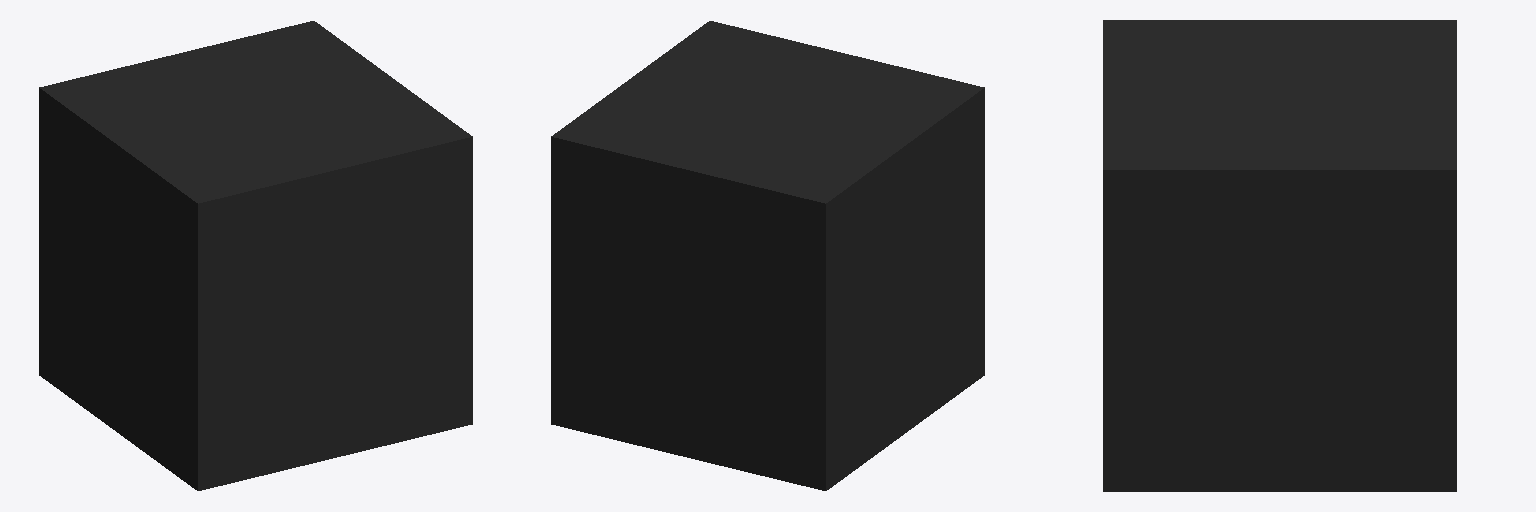
robot.urdf — robotis_manipulator_h:
<?xml version="1.0" ?>
<!-- =================================================================================== -->
<!-- |    This document was autogenerated by xacro from manipulator_h.xacro            | -->
<!-- |    EDITING THIS FILE BY HAND IS NOT RECOMMENDED                                 | -->
<!-- =================================================================================== -->
<!-- Revolute-Revolute Manipulator -->
<robot name="robotis_manipulator_h" xmlns:xacro="http://www.ros.org/wiki/xacro">
  <!-- ros_control plugin -->
  <gazebo>
    <plugin filename="libgazebo_ros_control.so" name="gazebo_ros_control">
      <robotNamespace>/robotis_manipulator_h</robotNamespace>
      <robotSimType>gazebo_ros_control/DefaultRobotHWSim</robotSimType>
    </plugin>
  </gazebo>
  <!-- World -->
  <gazebo reference="world">
  </gazebo>
  <!-- Link1 -->
  <gazebo reference="link1">
    <mu1>0.2</mu1>
    <mu2>0.2</mu2>
    <material>Gazebo/Grey</material>
  </gazebo>
  <!-- Link2 -->
  <gazebo reference="link2">
    <mu1>0.2</mu1>
    <mu2>0.2</mu2>
    <material>Gazebo/Grey</material>
  </gazebo>
  <!-- Link3 -->
  <gazebo reference="link3">
    <mu1>0.2</mu1>
    <mu2>0.2</mu2>
    <material>Gazebo/Grey</material>
  </gazebo>
  <!-- Link4 -->
  <gazebo reference="link4">
    <mu1>0.2</mu1>
    <mu2>0.2</mu2>
    <material>Gazebo/Grey</material>
  </gazebo>
  <!-- Link5 -->
  <gazebo reference="link5">
    <mu1>0.2</mu1>
    <mu2>0.2</mu2>
    <material>Gazebo/Grey</material>
  </gazebo>
  <!-- link_end -->
  <gazebo reference="link_end">
    <mu1>0.2</mu1>
    <mu2>0.2</mu2>
    <material>Gazebo/Grey</material>
  </gazebo>
  <!-- ros_control plugin deleted stuff from here but on top should be the same -->
  <material name="black">
    <color rgba="0.0 0.0 0.0 1.0"/>
  </material>
  <material name="blue">
    <color rgba="0.0 0.0 0.8 1.0"/>
  </material>
  <material name="green">
    <color rgba="0.0 0.8 0.0 1.0"/>
  </material>
  <material name="grey">
    <color rgba="0.2 0.2 0.2 1.0"/>
  </material>
  <material name="orange">
    <color rgba="1.0 0.423529411765 0.0392156862745 1.0"/>
  </material>
  <material name="brown">
    <color rgba="0.870588235294 0.811764705882 0.764705882353 1.0"/>
  </material>
  <material name="red">
    <color rgba="0.8 0.0 0.0 1.0"/>
  </material>
  <material name="white">
    <color rgba="1.0 1.0 1.0 1.0"/>
  </material>
  <!-- Used for fixing robot to Gazebo 'link 1' -->
  <link name="world">
  </link>
  <joint name="world_fixed" type="fixed">
    <origin rpy="0 0 0" xyz="0 0 0"/>
    <parent link="world"/>
    <child link="link_1"/>
  </joint>
  <!-- link 1 -->
  <link name="link_1">
    <collision>
      <origin rpy="0 0 0" xyz="0 0 0"/>
      <geometry>
        <mesh filename="package://manipulator_h_description/meshes/link_1.stl"/>
        <!--scale="0.001 0.001 0.001"/> -->
      </geometry>
    </collision>
    <visual>
      <origin rpy="0 0 0" xyz="0 0 0"/>
      <geometry>
        <mesh filename="package://manipulator_h_description/meshes/link_1.stl"/>
        <!--scale="0.001 0.001 0.001"/> -->
      </geometry>
      <material name="grey"/>
    </visual>
    <inertial>
      <origin rpy="0 0 0" xyz="-6.38743521995389E-06 -4.43861822296832E-11 0.0608318718478432"/>
      <mass value="0.855"/>
      <inertia ixx="1273676.57e-9" ixy="0" ixz="0" iyy="1272091.46e-9" iyz="173.33e-9" izz="375253.31e-9"/>
    </inertial>
  </link>
  <!-- Joint 1 -->
  <joint name="joint1" type="revolute">
    <parent link="link_1"/>
    <child link="link_2"/>
    <origin rpy="0 0 0" xyz="0.0 0.0 0.12"/>
    <axis xyz="0 0 1"/>
    <limit effort="1000" lower="-3.14" upper="3.14" velocity="6.5"/>
    <dynamics damping="1"/>
  </joint>
  <transmission name="tran1">
    <type>transmission_interface/SimpleTransmission</type>
    <joint name="joint1">
      <hardwareInterface>EffortJointInterface</hardwareInterface>
    </joint>
    <actuator name="motor1">
      <hardwareInterface>EffortJointInterface</hardwareInterface>
      <mechanicalReduction>1</mechanicalReduction>
    </actuator>
  </transmission>
  <!-- link 2 -->
  <link name="link_2">
    <collision>
      <origin rpy="0 0 0" xyz="0 0 0"/>
      <geometry>
        <mesh filename="package://manipulator_h_description/meshes/link_2.stl"/>
        <!--scale="0.001 0.001 0.001"/> -->
      </geometry>
    </collision>
    <visual>
      <origin rpy="0 0 0" xyz="0 0 0"/>
      <geometry>
        <mesh filename="package://manipulator_h_description/meshes/link_2.stl"/>
        <!--scale="0.001 0.001 0.001"/> -->
      </geometry>
      <material name="grey"/>
    </visual>
    <inertial>
      <origin rpy="0 0 0" xyz="-4.14934198111894E-11 -0.000325967598113923 0.0321402876424691"/>
      <!--<origin xyz="0.00000 -0.06820 -0.00117" rpy="0 0 0"/>-->
      <mass value="0.934"/>
      <inertia ixx="1537602.80e-9" ixy="-0.03e-9" ixz="0" iyy="1525990.95e-9" iyz="-36.60e-9" izz="445727.51e-9"/>
      <!--<inertia ixx="0.00152547" ixy="0.0" ixz="0.0" iyy="0.00045954" iyz="-0.00001086" izz="0.00151740" />-->
    </inertial>
  </link>
  <!-- Joint 2 -->
  <joint name="joint2" type="revolute">
    <parent link="link_2"/>
    <child link="link_3"/>
    <origin rpy="0 0 0" xyz="0.0 0 0.01"/>
    <axis xyz="0 1 0"/>
    <limit effort="1000" lower="-3.14" upper="3.14" velocity="6.5"/>
    <dynamics damping="1"/>
  </joint>
  <transmission name="tran2">
    <type>transmission_interface/SimpleTransmission</type>
    <joint name="joint2">
      <hardwareInterface>EffortJointInterface</hardwareInterface>
    </joint>
    <actuator name="motor2">
      <hardwareInterface>EffortJointInterface</hardwareInterface>
      <mechanicalReduction>1</mechanicalReduction>
    </actuator>
  </transmission>
  <!-- link 3 -->
  <link name="link_3">
    <collision>
      <origin rpy="0 0 0" xyz="0 0 0"/>
      <geometry>
        <mesh filename="package://manipulator_h_description/meshes/link_3.stl"/>
        <!--scale="0.001 0.001 0.001"/> -->
      </geometry>
    </collision>
    <visual>
      <origin rpy="0 0 0" xyz="0 0 0"/>
      <geometry>
        <mesh filename="package://manipulator_h_description/meshes/link_3.stl"/>
        <!--scale="0.001 0.001 0.001"/> -->
      </geometry>
      <material name="grey"/>
    </visual>
    <inertial>
      <origin rpy="0 0 0" xyz="0.00132369141952546 -0.00322509695531026 0.398031886628976"/>
      <!--<origin xyz="-0.01232 -0.05731 -0.05876" rpy="0 0 0"/>-->
      <mass value="2.0"/>
      <inertia ixx="83804990.37e-9" ixy="-4029.80e-9" ixz="-411147.41e-9" iyy="85204850.14e-9" iyz="137.88e-9" izz="2319398.31e-9"/>
      <!--<inertia ixx="0.01111021" ixy="0.00001331" ixz="-0.00134208" iyy="0.01046642" iyz="0.00016235" izz="0.00202081" />-->
    </inertial>
  </link>
  <!-- Joint 3 -->
  <joint name="joint3" type="revolute">
    <parent link="link_3"/>
    <child link="link_4"/>
    <origin rpy="0 0 0" xyz="0.003000 0.06571150 0.571400"/>
    <axis xyz="0 1 0"/>
    <limit effort="1000" lower="-3.14" upper="3.14" velocity="6.5"/>
    <dynamics damping="1"/>
  </joint>
  <transmission name="tran3">
    <type>transmission_interface/SimpleTransmission</type>
    <joint name="joint3">
      <hardwareInterface>EffortJointInterface</hardwareInterface>
    </joint>
    <actuator name="motor3">
      <hardwareInterface>EffortJointInterface</hardwareInterface>
      <mechanicalReduction>1</mechanicalReduction>
    </actuator>
  </transmission>
  <!-- link 4 -->
  <link name="link_4">
    <collision>
      <origin rpy="0 0 0" xyz="0 0 0"/>
      <geometry>
        <mesh filename="package://manipulator_h_description/meshes/link_4.stl"/>
        <!--scale="0.001 0.001 0.001"/> -->
      </geometry>
    </collision>
    <visual>
      <origin rpy="0 0 0" xyz="0 0 0"/>
      <geometry>
        <mesh filename="package://manipulator_h_description/meshes/link_4.stl"/>
        <!--scale="0.001 0.001 0.001"/> -->
      </geometry>
      <material name="grey"/>
    </visual>
    <inertial>
      <origin rpy="0 0 0" xyz="0.000192286862973748 -0.0691492696212278 0.28395137691921"/>
      <!--<origin xyz="-0.07025 0.00034 -0.00021" rpy="0 0 0"/>-->
      <mass value="1.23"/>
      <inertia ixx="42869469.56e-9" ixy="-1927.47e-9" ixz="-119143.05e-9" iyy="43530598.46e-9" iyz="8.61e-9" izz="1226293.96e-9"/>
      <!--<inertia ixx="0.00096726" ixy="0.00004383" ixz="-0.00002771" iyy="0.00318801" iyz="0.00000627" izz="0.00341484" />-->
    </inertial>
  </link>
  <!-- end_link -->
  <link name="end_link">
    <collision>
      <origin rpy="0 0 0" xyz="0 0 0"/>
      <geometry>
        <box size="0.06 0.06 0.06"/>
      </geometry>
    </collision>
    <visual>
      <origin rpy="0 0 0" xyz="0 0 0"/>
      <geometry>
        <box size="0.06 0.06 0.06"/>
      </geometry>
      <material name="grey"/>
    </visual>
    <inertial>
      <origin rpy="0 0 0" xyz="0 0 0"/>
      <mass value="0"/>
      <inertia ixx="0" ixy="0" ixz="0" iyy="0" iyz="0" izz="0"/>
    </inertial>
  </link>
  <!-- Joint 4 -->
  <joint name="end_joint" type="fixed">
    <parent link="link_4"/>
    <child link="end_link"/>
    <origin rpy="0 0 0" xyz="0.0 -0.09 0.556"/>
    <limit effort="1000" lower="-3.14" upper="3.14" velocity="6.5"/>
  </joint>
  <gazebo>
    <plugin filename="libgazebo_ros_control.so" name="gazebo_ros_control">
      <robotSimType>gazebo_ros_control/DefaultRobotHWSim</robotSimType>
      <legacyModeNS>true</legacyModeNS>
    </plugin>
  </gazebo>
</robot>

--- What the picture shows (computed from the rendered views, not written in the file) ---
3 views of the same robot in one strip: view 1: azimuth 30°, elevation 25°; view 2: azimuth 150°, elevation 25°; view 3: azimuth 270°, elevation 25° (orthographic).
Model robotis_manipulator_h with 6 links and 5 joints (3 revolute, 2 fixed), rooted at world, posed every joint at zero.
Links seen in each view (by area): view 1: end_link; view 2: end_link; view 3: end_link.
Link boxes in pixels (x1,y1,x2,y2): end_link: (39,21,472,490); end_link: (551,21,984,490); end_link: (1103,20,1456,491).
Bounding box of the posed robot: 0.06 × 0.06 × 0.06 m (x, y, z).
0 mesh visuals loaded from 4 distinct referenced files (none loaded); not drawn: 4 (reference not matched to a file when rendering).